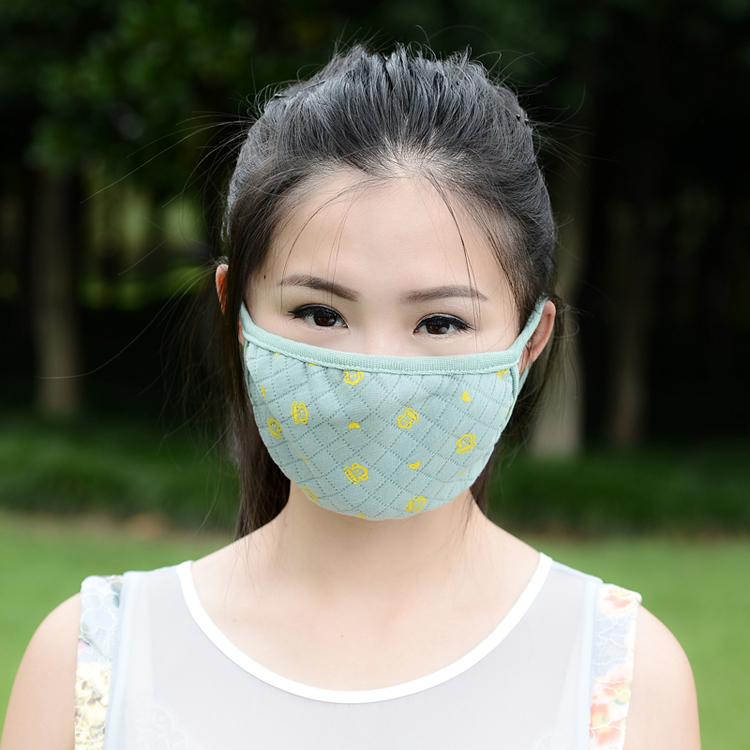face_mask: (247, 176, 516, 512)
